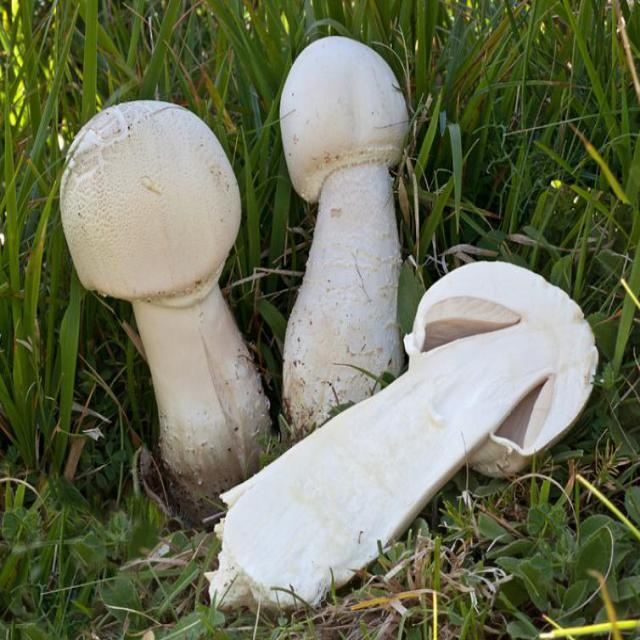Agaricus bisporus: (217, 259, 599, 607), (61, 101, 279, 528), (275, 42, 413, 424)
